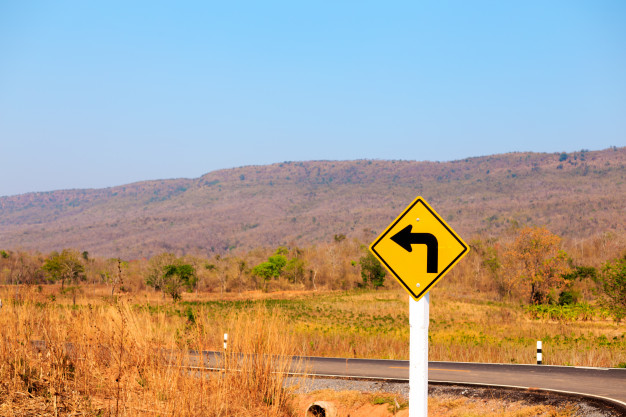left: (368, 194, 475, 303)
